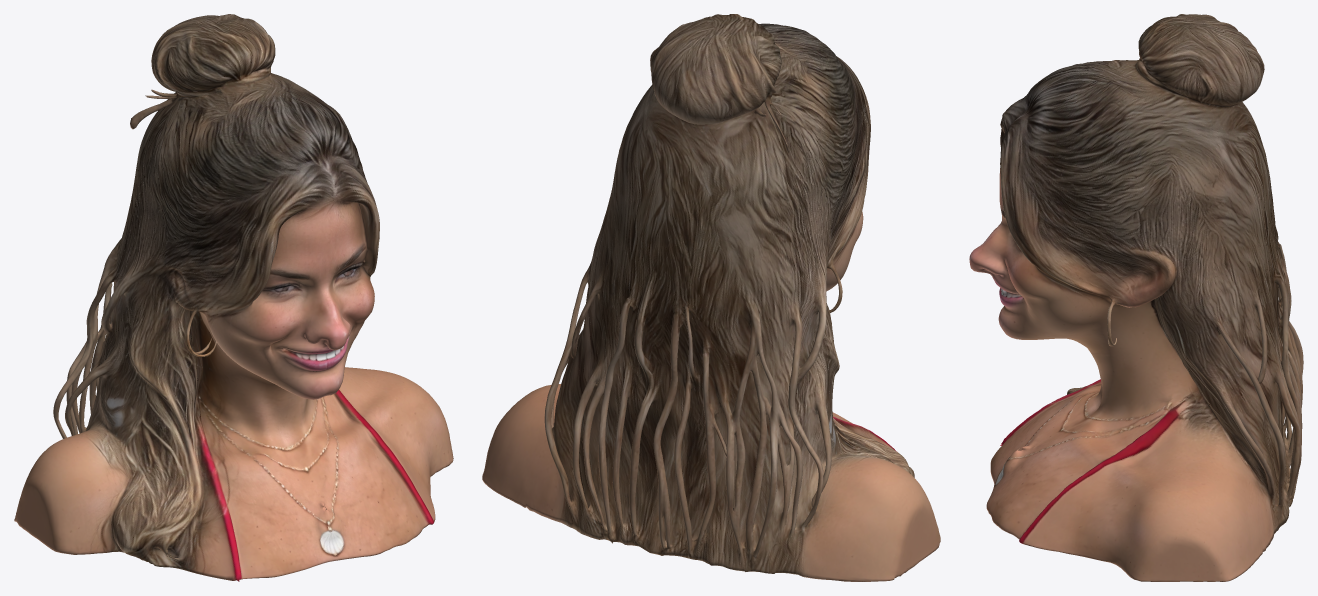
Rendered from boat-attendant-portrait-v166.glb.
3 renders of one model, left to right at view 1: azimuth 30°, elevation 25°; view 2: azimuth 150°, elevation 25°; view 3: azimuth 270°, elevation 25°, orthographic. The views are drawn at different scales.
Visible parts, largest first — view 1: model; view 2: model; view 3: model.
Part boxes in pixels (x1,y1,x2,y2): model: (14, 14, 453, 581); model: (482, 14, 940, 581); model: (969, 14, 1303, 581).
Size of the model in its own units: 0.4929 by 0.56 by 0.3695.
1 material, 1 textured.
